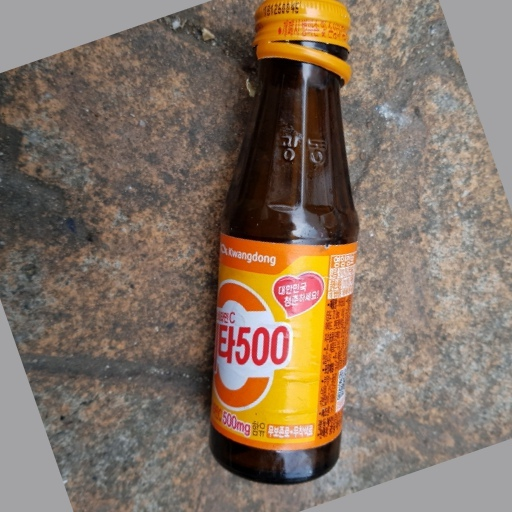Glass_3: (207, 2, 370, 485)
